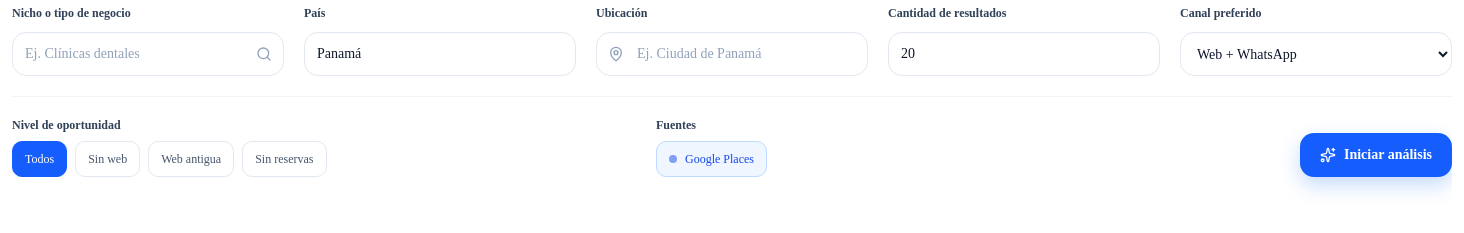
formulario de búsqueda › muestra errores accesibles cuando faltan los campos requeridos
This screenshot has width=1464, height=233.
Click the button "Iniciar análisis" at (1376, 155), box left=1300, top=133, right=1452, bottom=177
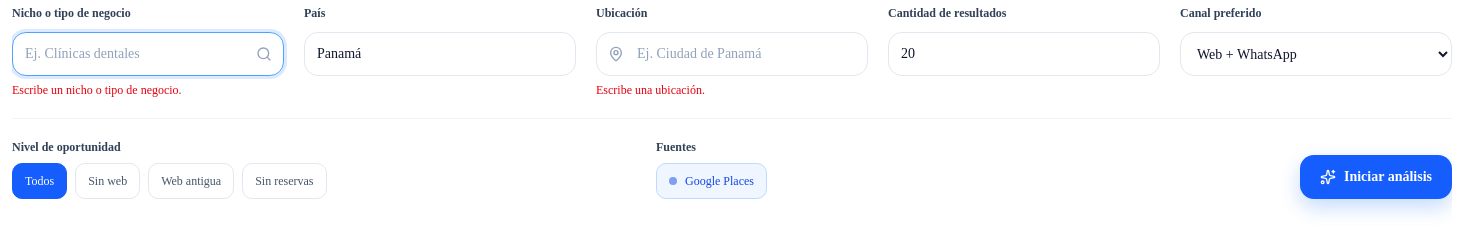
Check: the text "Escribe un nicho o tipo de negocio." is shown, box left=12, top=83, right=182, bottom=97
Check: the text "Escribe una ubicación." is shown, box left=596, top=83, right=705, bottom=97
